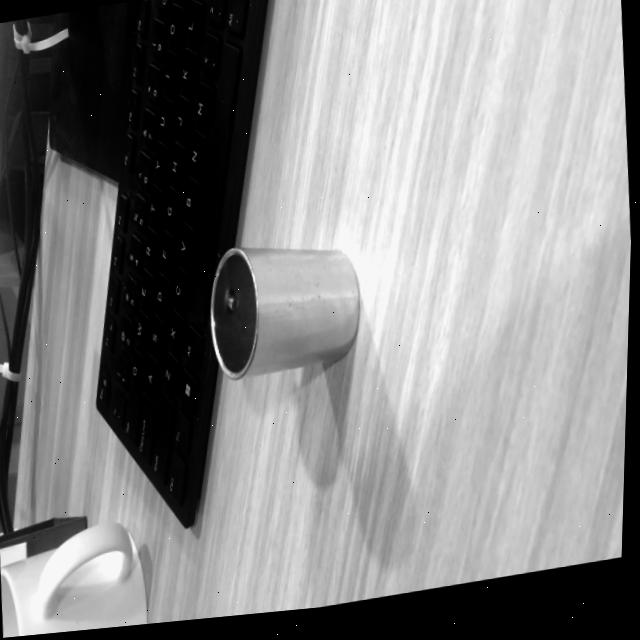Co_Lon: (208, 242, 362, 379)
